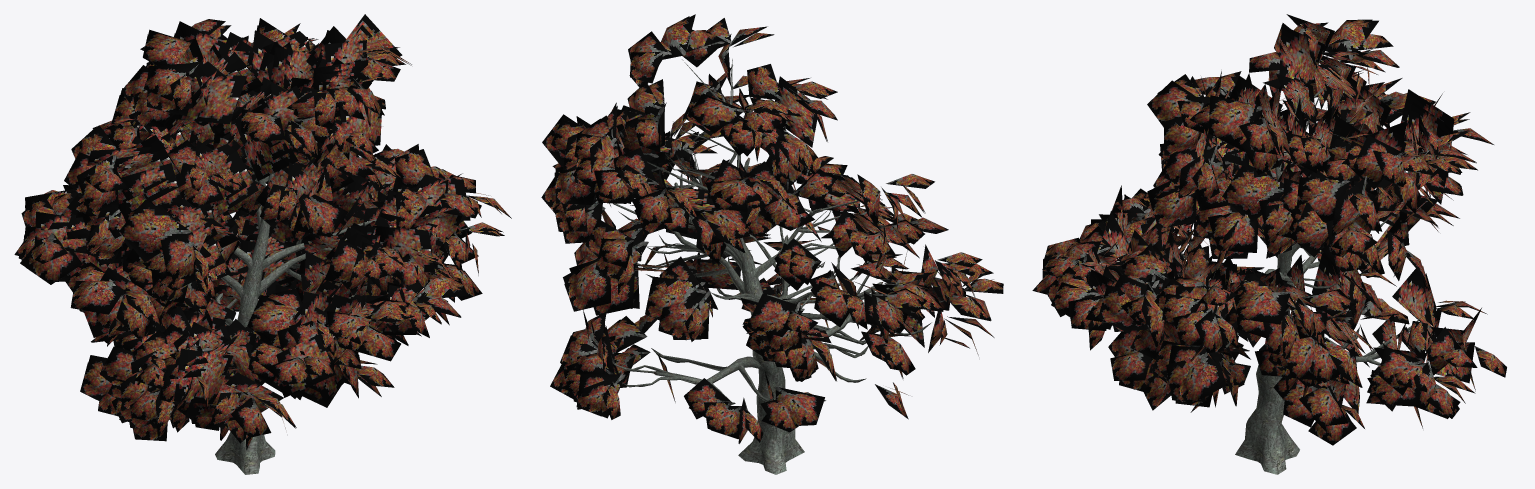
File: White_Oak_Desktop_Fall-transformed.glb
3 renders of one model, left to right at view 1: azimuth 30°, elevation 25°; view 2: azimuth 150°, elevation 25°; view 3: azimuth 270°, elevation 25°, orthographic. The views are drawn at different scales.
Visible parts, largest first — view 1: White_Oak_Desktop_Fall_LOD0; view 2: White_Oak_Desktop_Fall_LOD0; view 3: White_Oak_Desktop_Fall_LOD0.
Part boxes in pixels (x1,y1,x2,y2): White_Oak_Desktop_Fall_LOD0: (14,14,511,474); White_Oak_Desktop_Fall_LOD0: (541,14,1003,474); White_Oak_Desktop_Fall_LOD0: (1032,14,1506,474).
Bounding box in the file's own units: 20.53 × 19.49 × 19.9.
2 materials, 2 textured.
